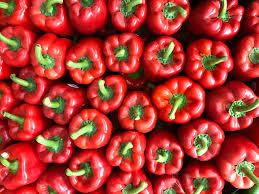bell pepper: (150, 75, 210, 126), (202, 82, 259, 132), (97, 30, 146, 81), (62, 150, 117, 192), (187, 39, 234, 88), (141, 34, 189, 79), (138, 129, 181, 178), (214, 136, 259, 181), (168, 162, 231, 194), (105, 93, 156, 132), (180, 123, 228, 164), (66, 109, 110, 152), (60, 39, 105, 81), (38, 84, 86, 121), (103, 130, 146, 171), (4, 103, 46, 144), (81, 72, 126, 110), (200, 2, 245, 39), (2, 148, 42, 188), (29, 127, 73, 162), (99, 166, 151, 194), (4, 70, 44, 106), (33, 34, 62, 83), (151, 2, 194, 35), (3, 29, 31, 78), (110, 1, 151, 33), (68, 1, 107, 34), (235, 36, 259, 87), (32, 1, 64, 35), (145, 171, 181, 194), (36, 166, 63, 194), (1, 2, 27, 27), (1, 83, 11, 118)
